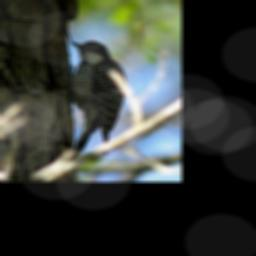Woodpecker: (67, 39, 127, 160)
